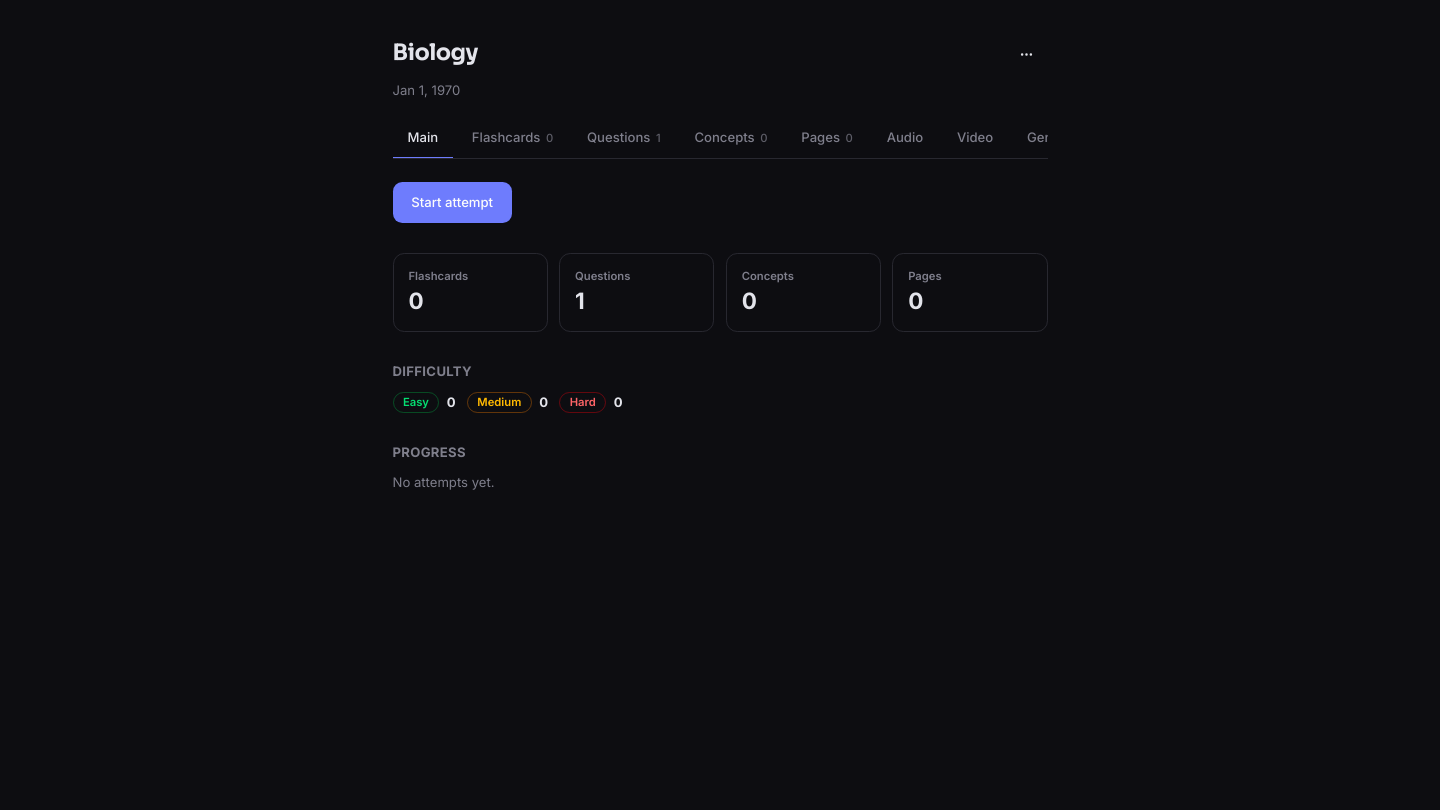
PrepPage shell › collapses Share and Delete into the actions menu for the owner
The image size is (1440, 810).
Click the button named "Prep actions": (1027, 54) [1006,34,1048,75]
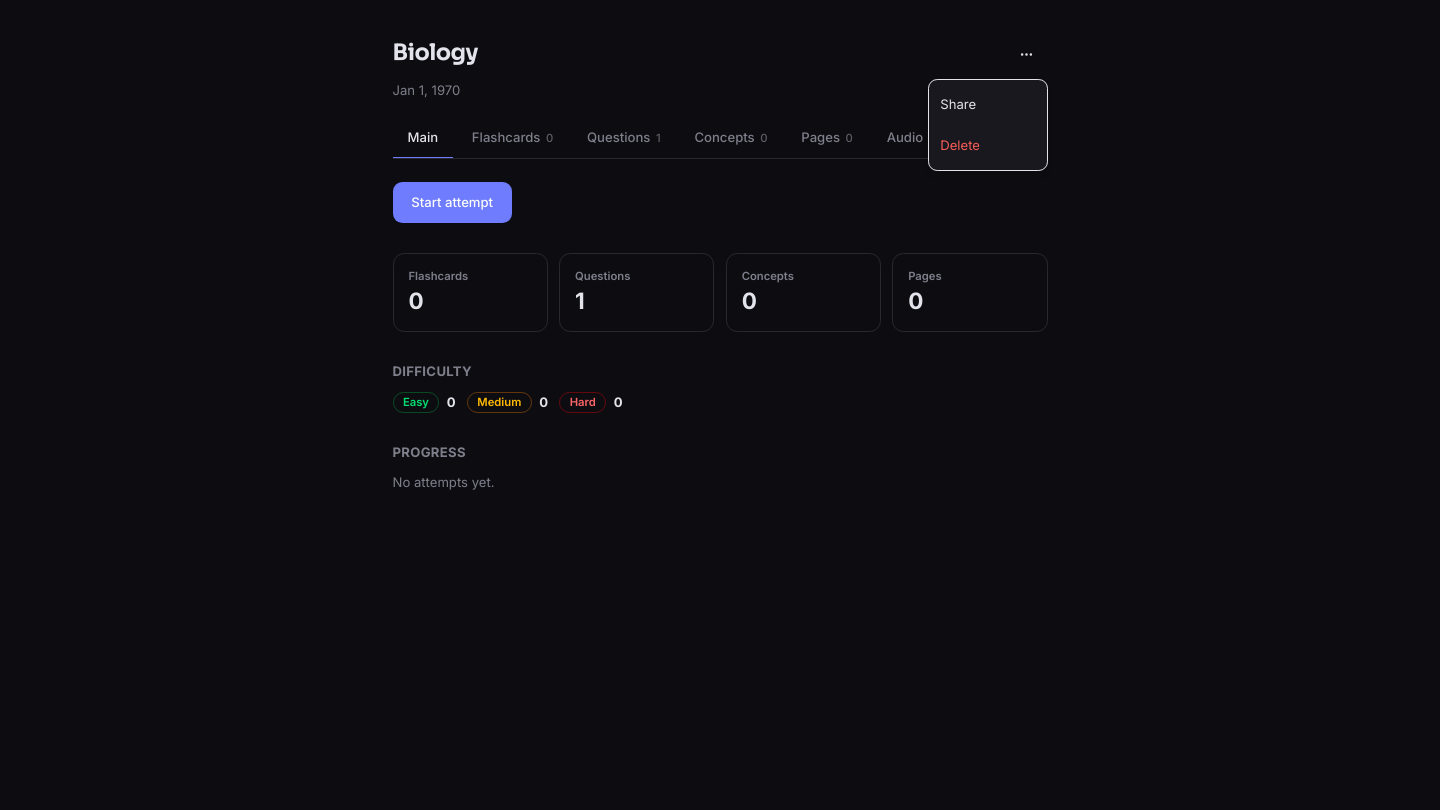
Expected: the menu item "Share" is shown, [940,96,976,112]
Click the menu item "Delete": (960, 145) [940,137,980,153]
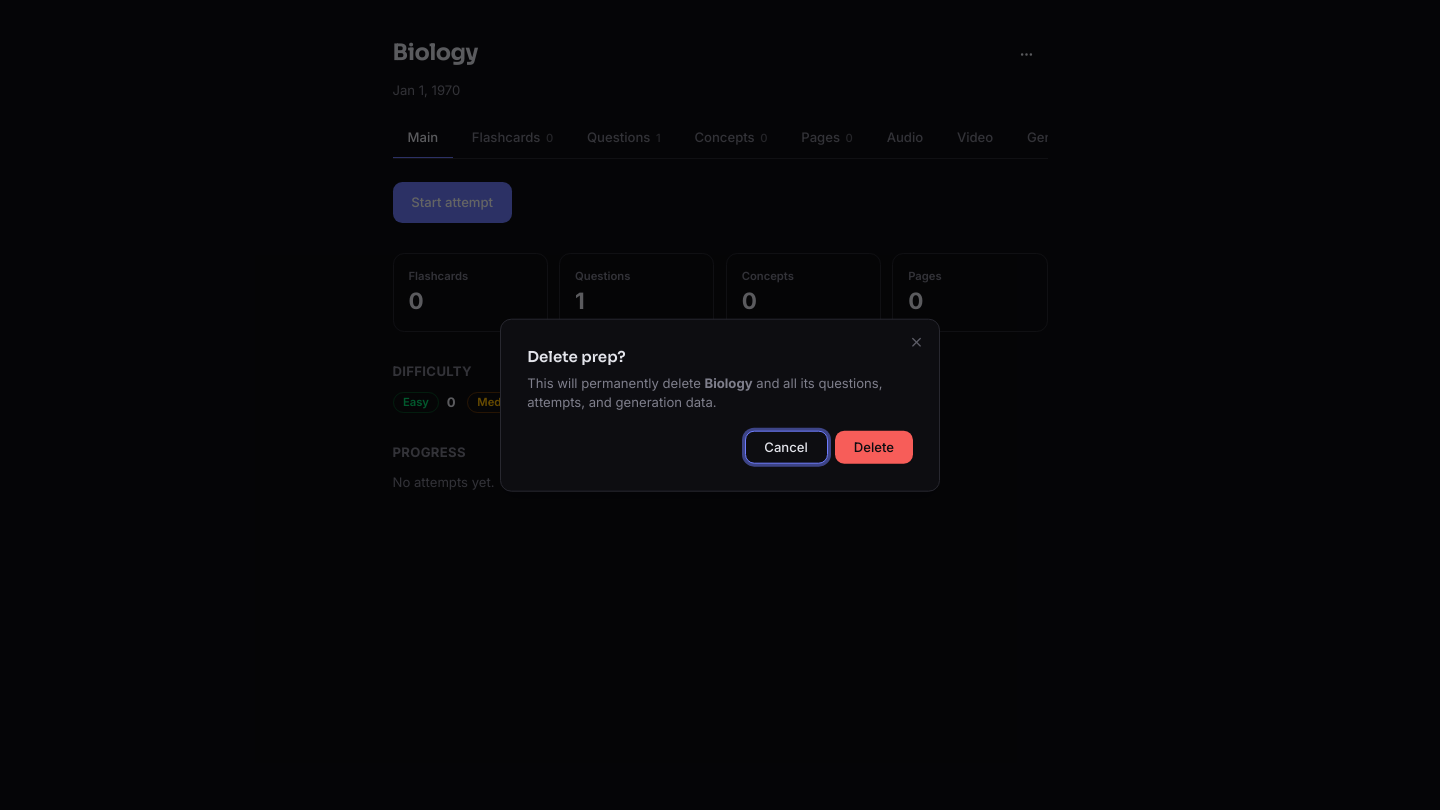
Expected: the dialog "Delete prep?" is shown, [500,319,940,491]
